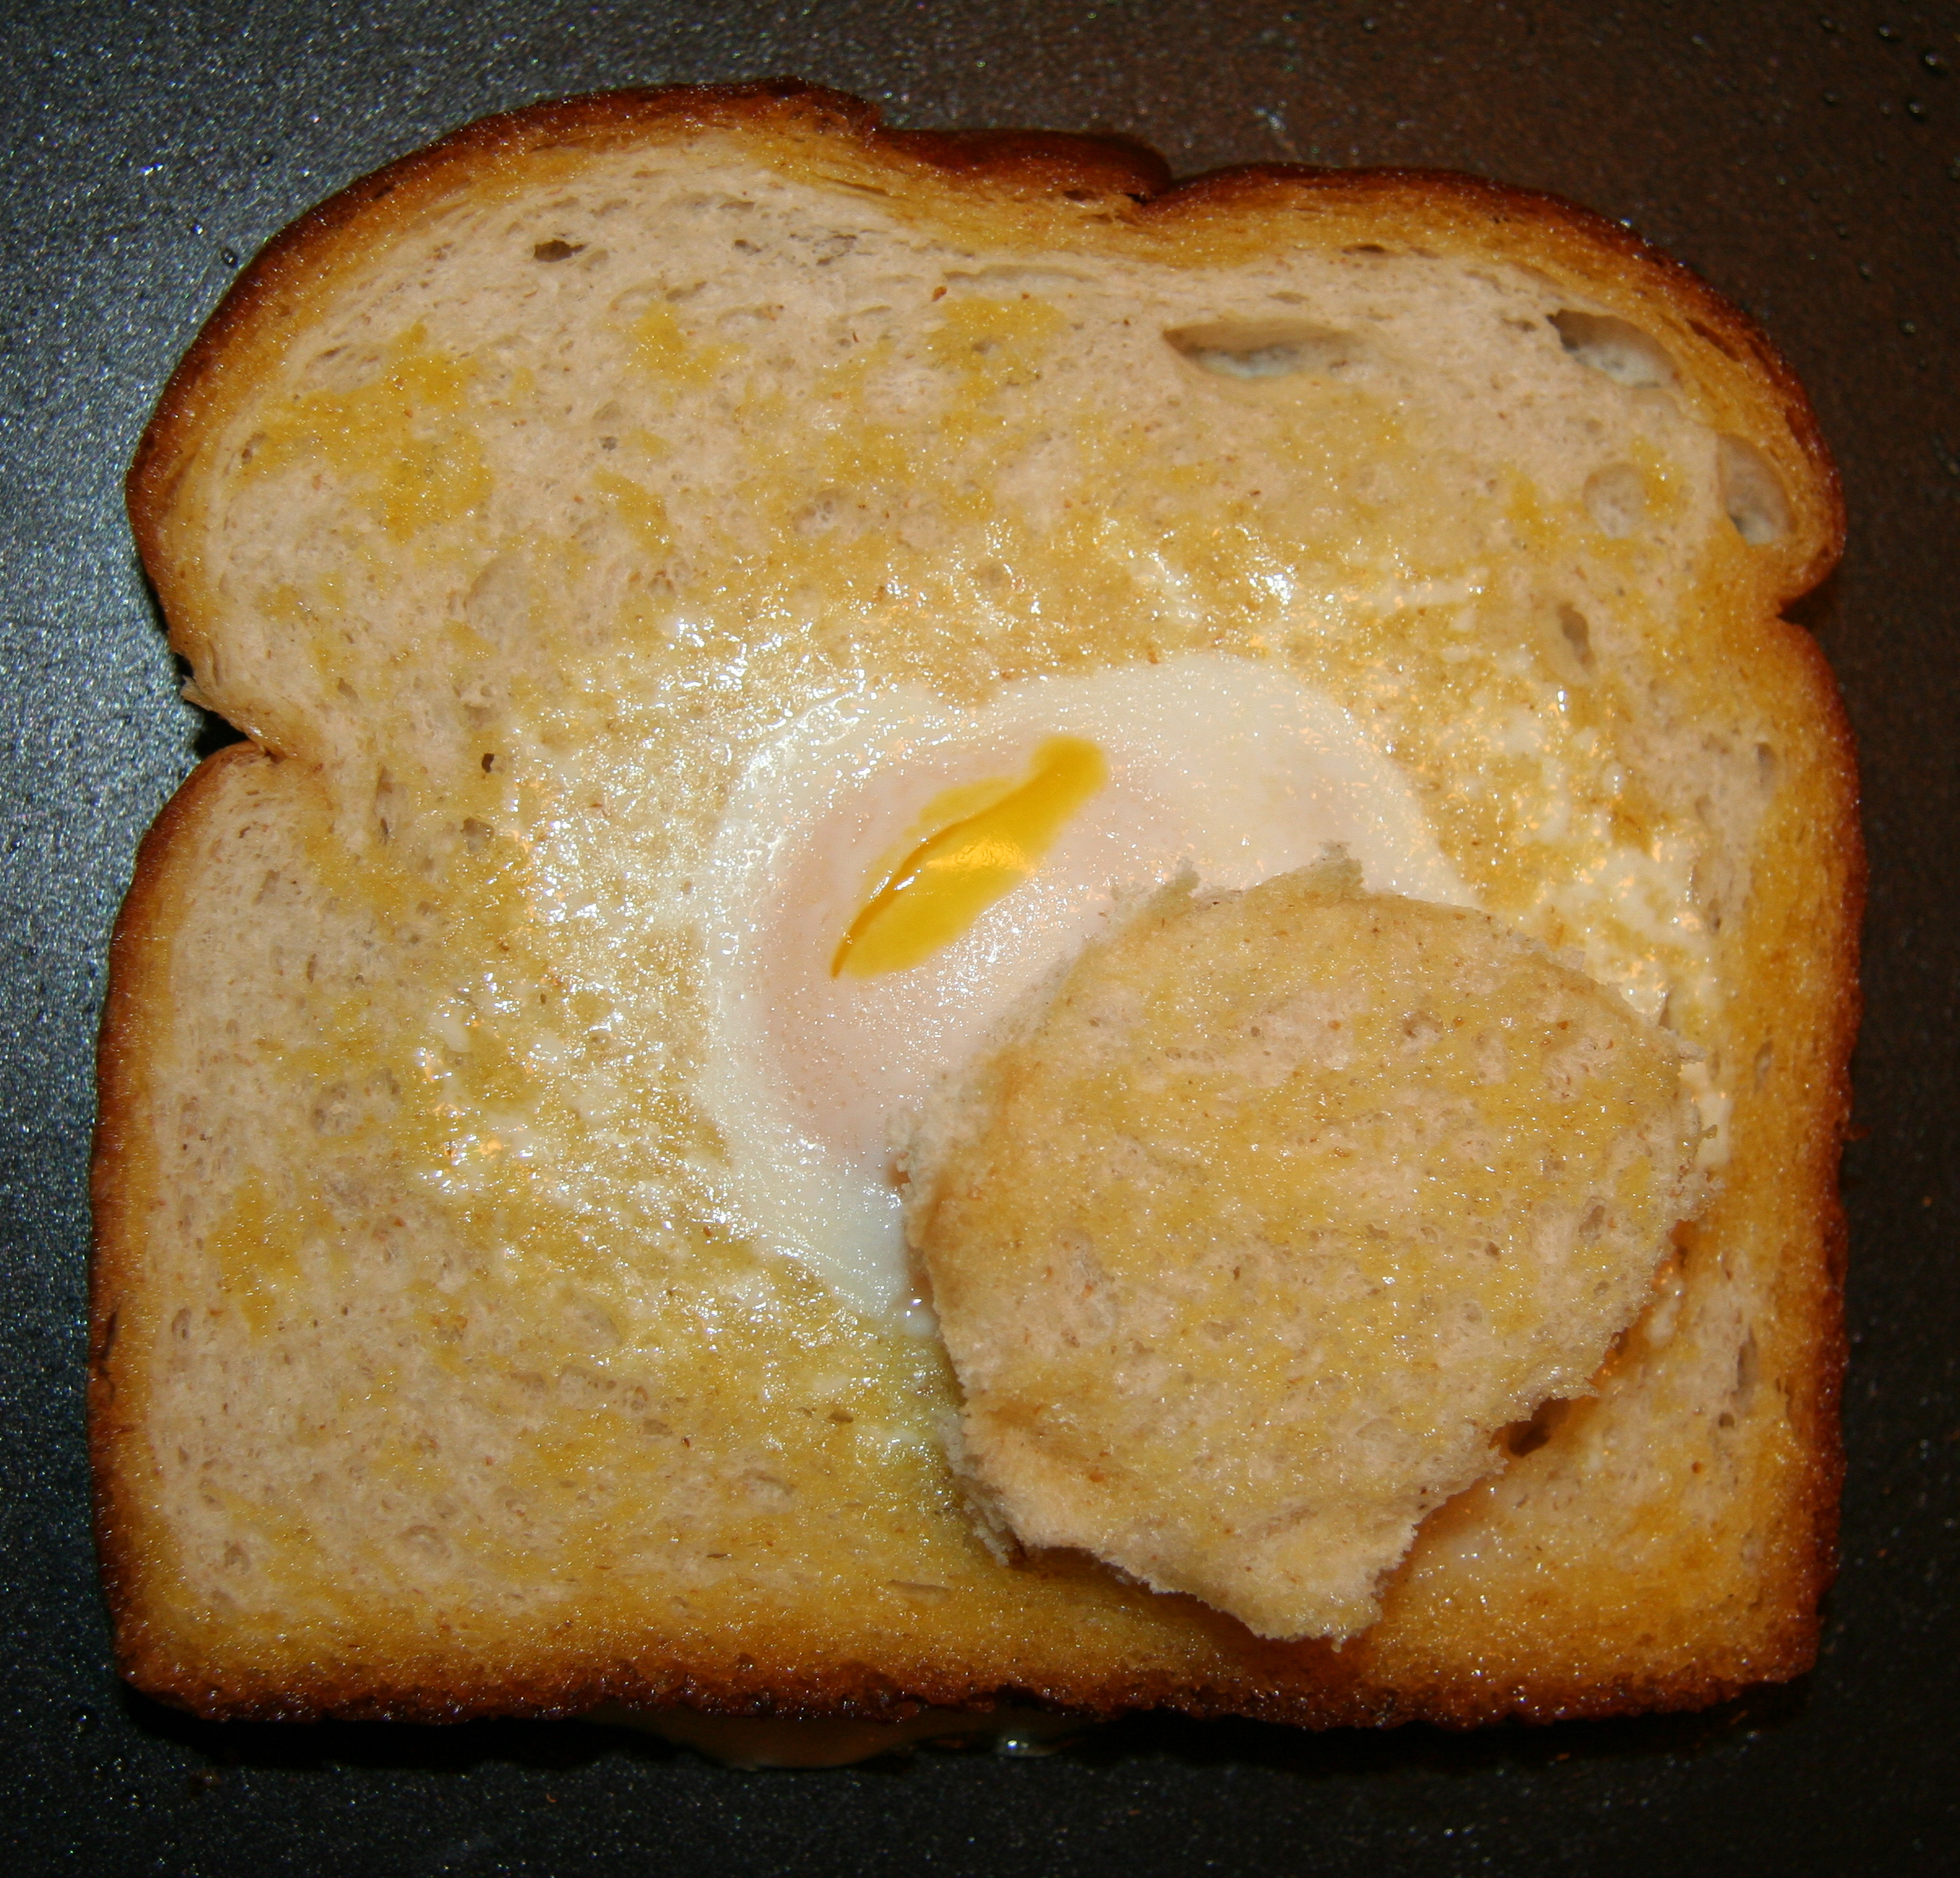fried egg: (623, 649, 1223, 1010)
slice of bread: (194, 215, 1820, 572)
